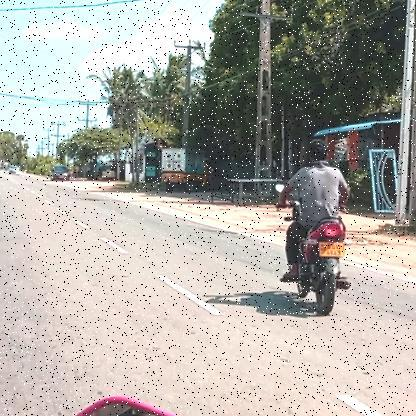motorcycle: (268, 215, 360, 322)
